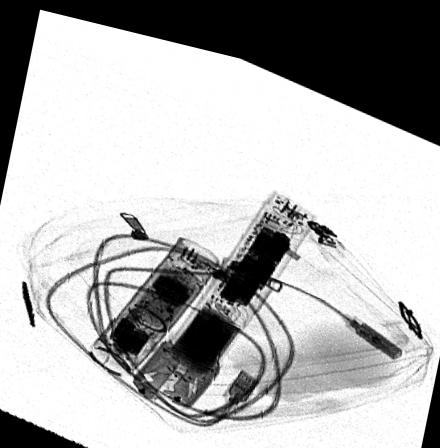Baton: (129, 174, 321, 402), (87, 226, 222, 372)
